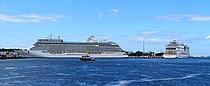Ship: (25, 35, 135, 62), (163, 39, 193, 60)
